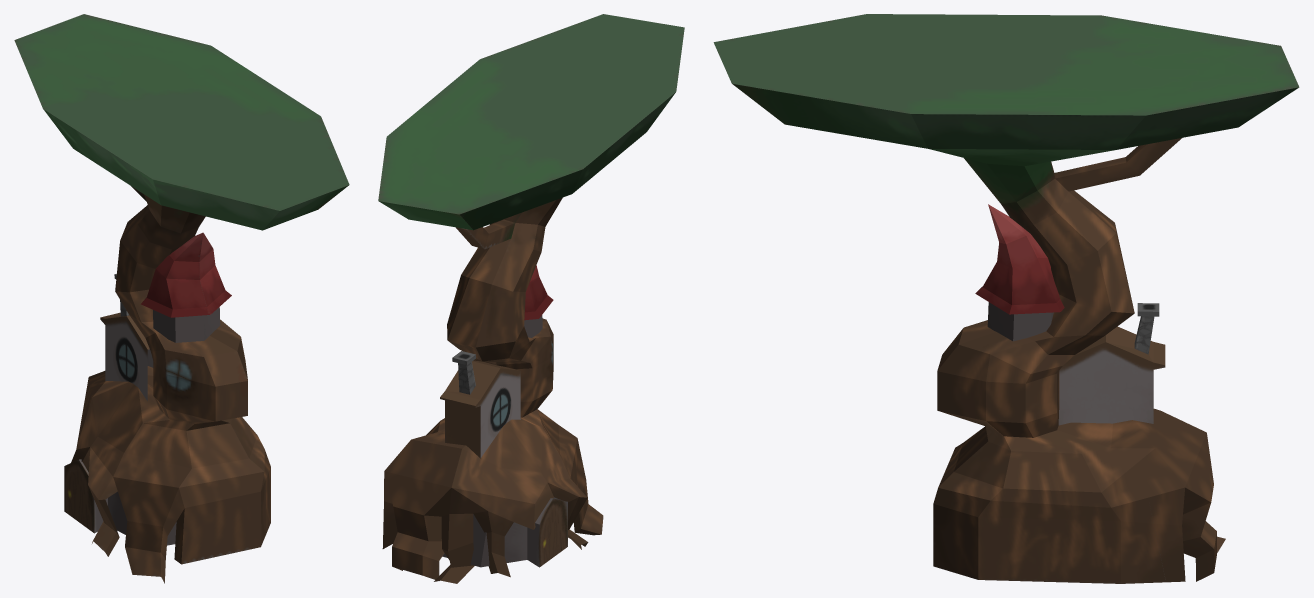
Rendered from casaarboll.fbx.
3 views of the same model, side by side, from view 1: azimuth 30°, elevation 25°; view 2: azimuth 150°, elevation 25°; view 3: azimuth 270°, elevation 25° (orthographic). The views are drawn at different scales.
Visible parts, largest first — view 1: Cilindro, Cono, Cubo, Cubo.001; view 2: Cilindro, Cubo, Cubo.001, Cono; view 3: Cilindro, Cubo, Cono.
Part boxes in pixels (x1=…): Cilindro: x1=14, y1=14, x2=349, y2=583; Cono: x1=141, y1=232, x2=231, y2=342; Cubo: x1=100, y1=273, x2=153, y2=400; Cubo.001: x1=64, y1=459, x2=176, y2=545; Cilindro: x1=378, y1=14, x2=684, y2=583; Cubo: x1=440, y1=351, x2=520, y2=458; Cubo.001: x1=442, y1=497, x2=567, y2=567; Cono: x1=524, y1=265, x2=553, y2=337; Cilindro: x1=713, y1=14, x2=1299, y2=583; Cubo: x1=1058, y1=303, x2=1165, y2=425; Cono: x1=975, y1=204, x2=1064, y2=341.
Size of the model in its own units: 819 by 1804 by 1903.
